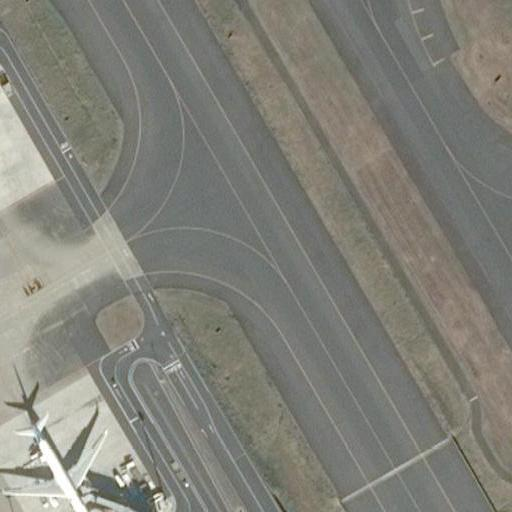Aircraft: (0, 402, 112, 512)
